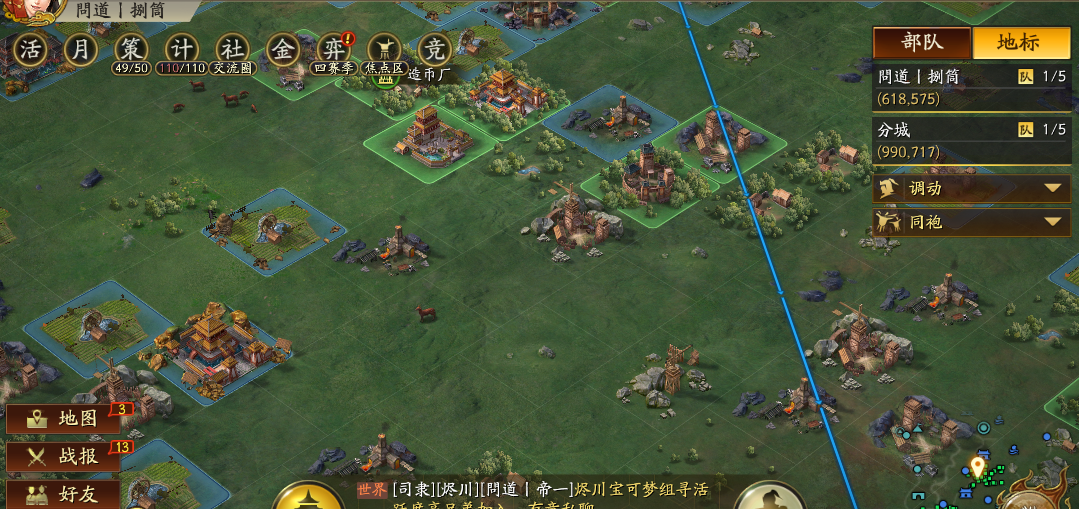sanzhan_plot_node: (778, 299, 941, 421), (581, 324, 746, 444), (137, 293, 295, 413), (712, 349, 871, 468), (274, 407, 453, 508), (20, 275, 180, 385), (849, 255, 1010, 362), (847, 385, 1005, 494), (310, 201, 465, 301), (507, 181, 655, 283), (201, 187, 350, 280), (579, 137, 719, 232), (762, 120, 909, 209), (698, 170, 845, 255), (435, 58, 573, 146), (652, 97, 792, 183), (541, 83, 681, 164), (671, 8, 811, 87)
